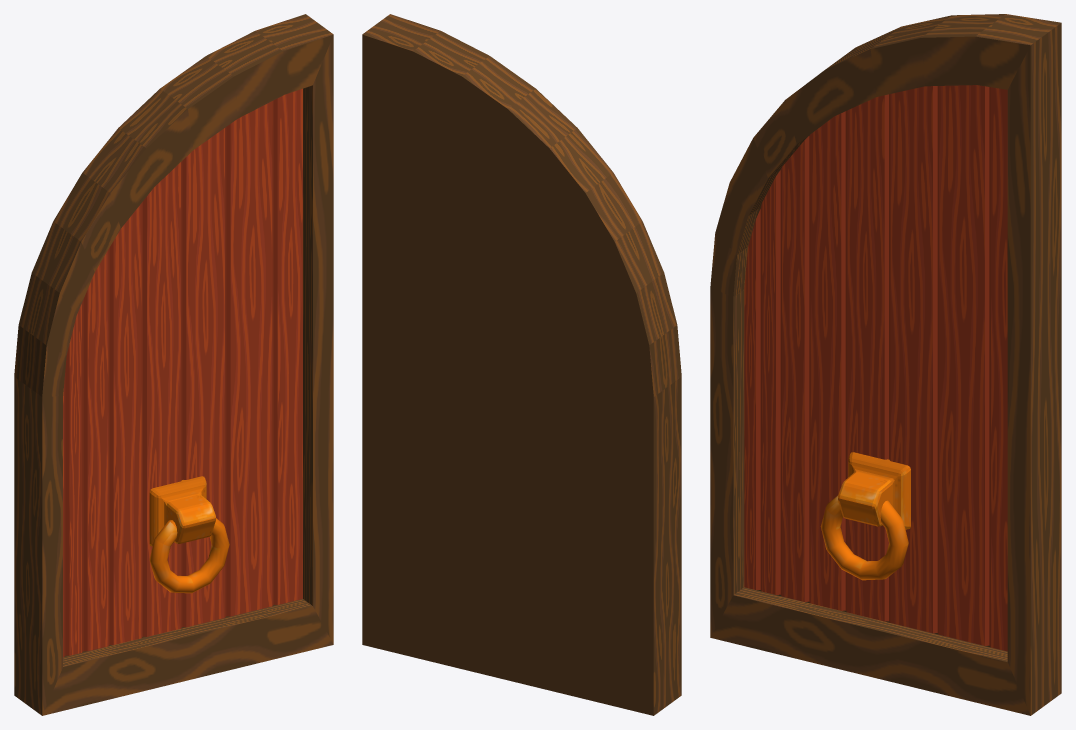
Rendered from BigDoor-L-Detailed.glb.
3 renders of one model, left to right at view 1: azimuth 30°, elevation 25°; view 2: azimuth 150°, elevation 25°; view 3: azimuth 330°, elevation 25°, orthographic. The views are drawn at different scales.
Visible parts, largest first — view 1: BigDoor-L-Detailed.004, BigDoor-L-Detailed.003, Cube.105, Torus.002; view 2: BigDoor-L-Detailed.003; view 3: BigDoor-L-Detailed.004, BigDoor-L-Detailed.003, Cube.105, Torus.002.
Boxes of the visible parts, box(x1,y1,x2,y2) form: BigDoor-L-Detailed.004: box(63, 88, 302, 657); BigDoor-L-Detailed.003: box(14, 14, 333, 715); Cube.105: box(149, 476, 215, 546); Torus.002: box(149, 518, 229, 593); BigDoor-L-Detailed.003: box(362, 14, 681, 715); BigDoor-L-Detailed.004: box(744, 85, 1007, 651); BigDoor-L-Detailed.003: box(710, 14, 1061, 715); Cube.105: box(838, 452, 910, 529); Torus.002: box(820, 495, 908, 580).
Bounding box in the file's own units: 3 × 6 × 0.7248.
1 material, 1 textured.
